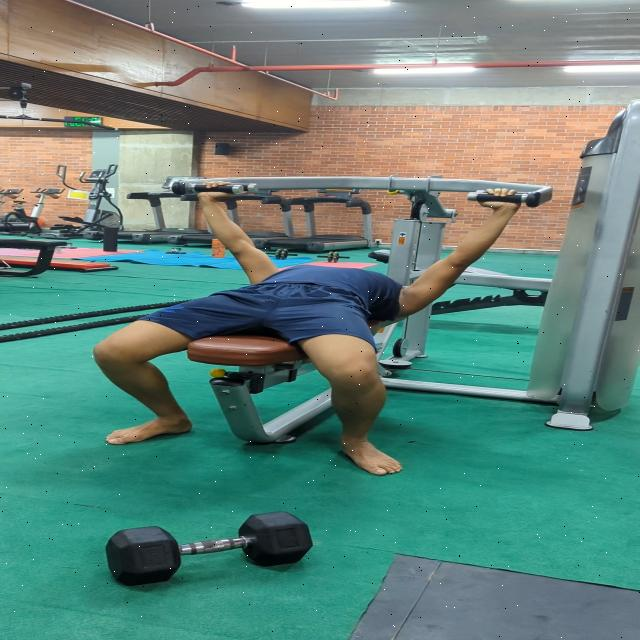Normal_BrenchPress: (34, 183, 535, 479)
